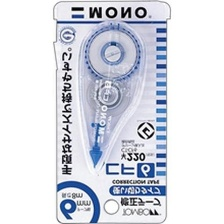book: (52, 0, 173, 223)
correction_fluid: (74, 18, 148, 173)
